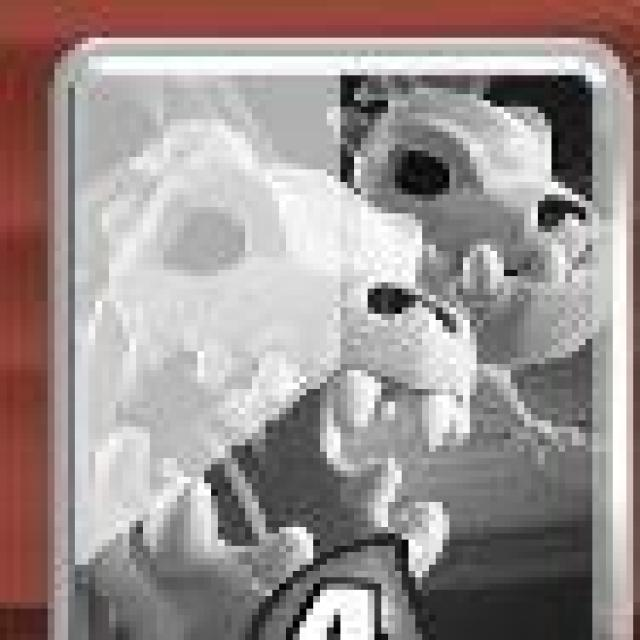Skeleton_Dragons: (56, 46, 638, 640)
